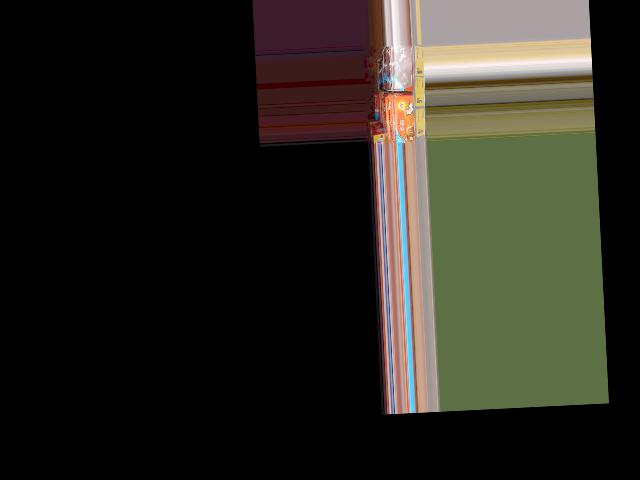chocolate: (389, 43, 418, 87)
